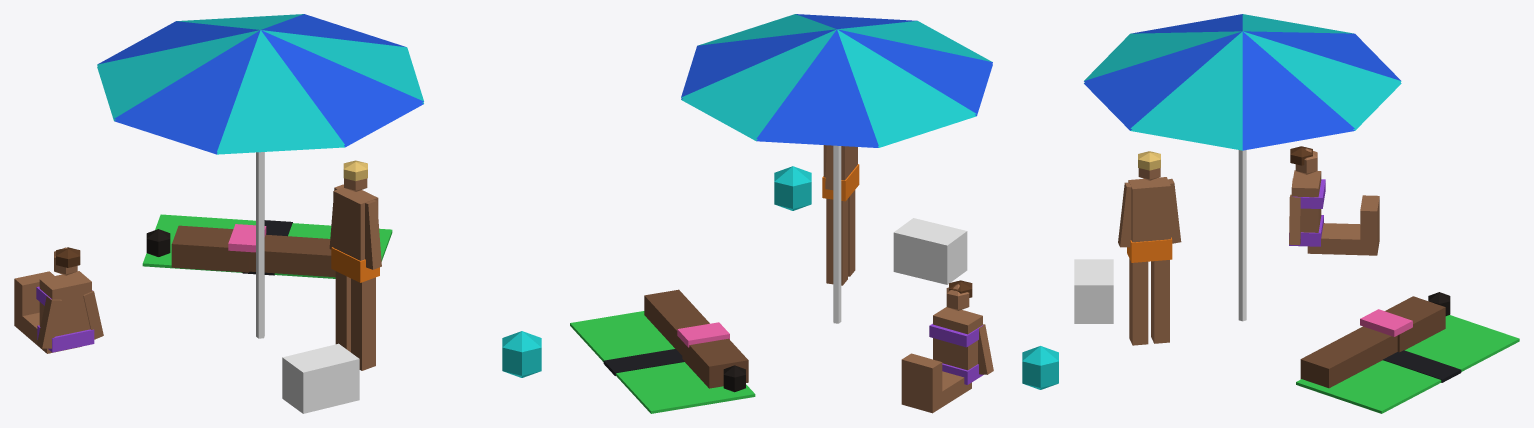
Rendered from playa_grupo_6.obj.
3 renders of one model, left to right at view 1: azimuth 30°, elevation 25°; view 2: azimuth 150°, elevation 25°; view 3: azimuth 270°, elevation 25°, orthographic. The views are drawn at different scales.
Visible parts, largest first — view 1: playa_grupo_6; view 2: playa_grupo_6; view 3: playa_grupo_6.
Boxes of the visible parts, x1,y1,x2,y2 form: playa_grupo_6: (14, 14, 541, 413); playa_grupo_6: (570, 14, 993, 413); playa_grupo_6: (1022, 14, 1519, 413).
Size of the model in its own units: 3.52 by 2.6 by 4.07.
